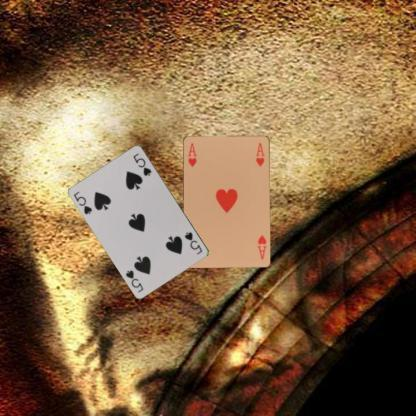5s: (71, 188, 94, 216), (182, 229, 204, 256)
Ah: (254, 232, 269, 261), (185, 140, 197, 168)
